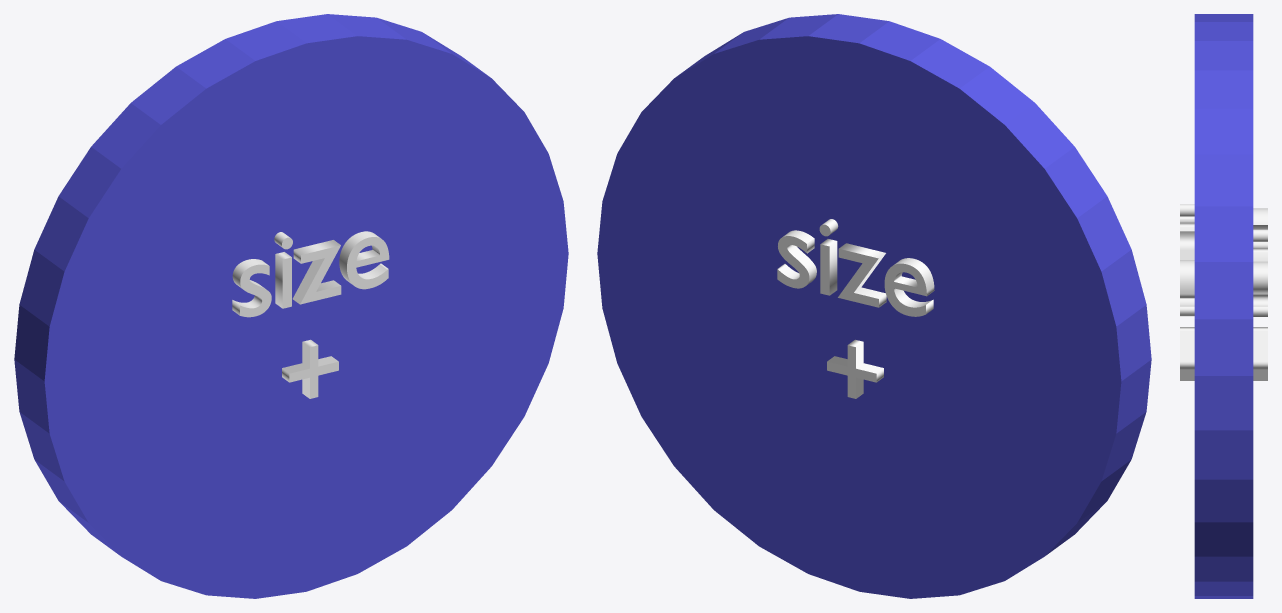
The model's file is size_plus.glb.
The picture shows the model from 3 angles, left to right: view 1: azimuth 30°, elevation 25°; view 2: azimuth 150°, elevation 25°; view 3: azimuth 270°, elevation 25°; orthographic projection. The views are drawn at different scales.
Parts seen in each view (by area): view 1: Coin_size_Plus; view 2: Coin_size_Plus; view 3: Coin_size_Plus.
Boxes of the visible parts, x1,y1,x2,y2 form: Coin_size_Plus: (14, 14, 568, 598); Coin_size_Plus: (597, 14, 1151, 598); Coin_size_Plus: (1180, 14, 1267, 598).
Size of the model in its own units: 2 by 2 by 0.3.
